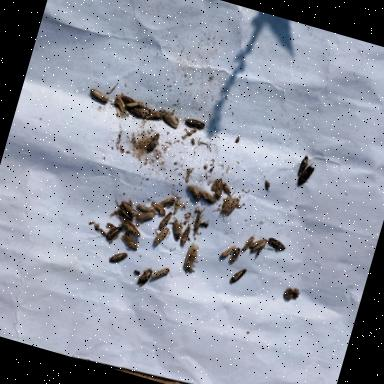pbw: (183, 241, 203, 271), (296, 164, 315, 190), (120, 219, 143, 238), (134, 266, 152, 289), (158, 112, 180, 130), (265, 237, 288, 254), (120, 232, 140, 251), (144, 131, 160, 154), (157, 210, 173, 232), (152, 226, 168, 248), (210, 178, 226, 200), (150, 265, 169, 283), (229, 266, 246, 286), (224, 197, 239, 219), (192, 207, 205, 232), (184, 186, 202, 204), (198, 190, 218, 206), (168, 220, 184, 240), (248, 237, 266, 254), (219, 243, 236, 261), (108, 250, 127, 266), (158, 194, 176, 210), (148, 202, 167, 217), (240, 234, 254, 254), (90, 89, 110, 103), (136, 209, 154, 224), (119, 201, 137, 216), (298, 156, 310, 178), (178, 226, 190, 246), (228, 246, 240, 266), (113, 98, 127, 114), (106, 226, 120, 242), (184, 118, 204, 129), (218, 200, 230, 216), (128, 107, 145, 118), (220, 184, 233, 198), (135, 204, 151, 215), (144, 112, 160, 122), (126, 100, 139, 110)
